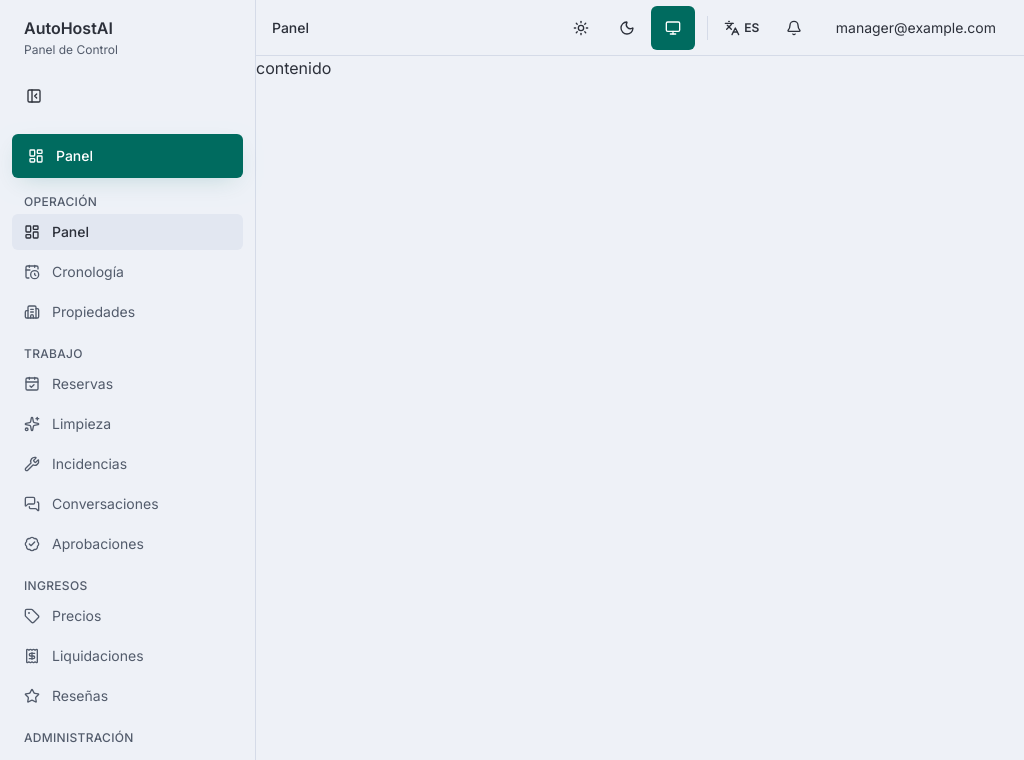
Test: WorkspaceShell (D3/D6/D9) › toggles the sidebar collapse with aria-expanded
Click the button named "Colapsar barra lateral" at coordinates (34, 96), box [12,74,56,118]
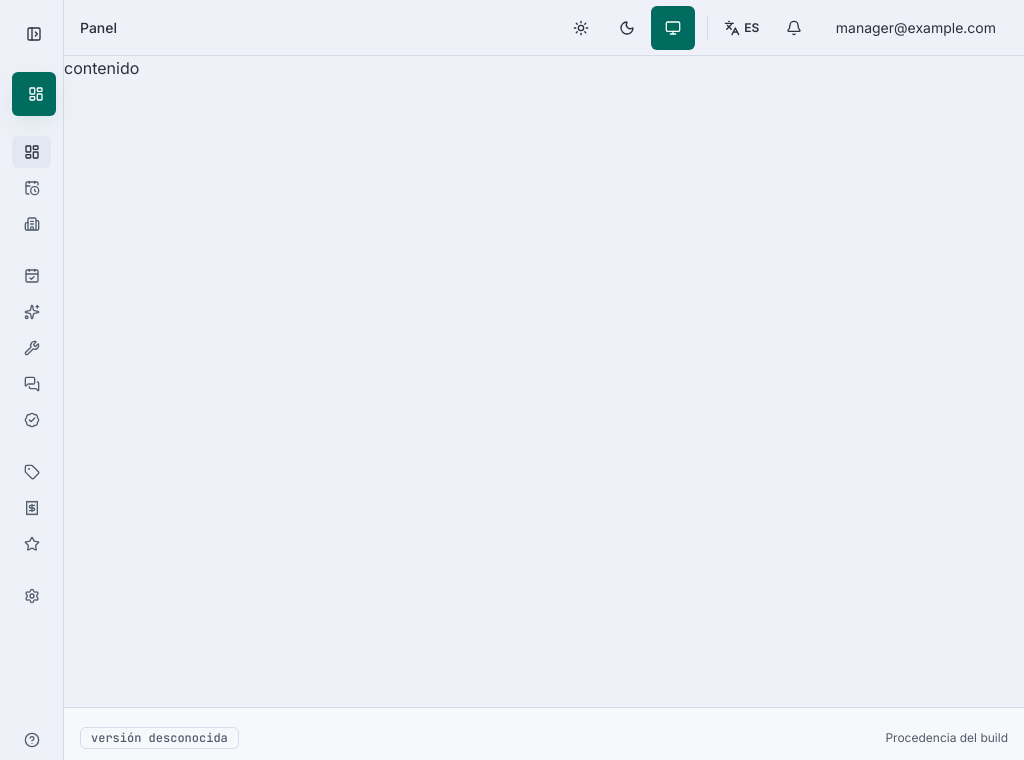
Expected: the button named "Expandir barra lateral" is collapsed, [12,12,56,56]
